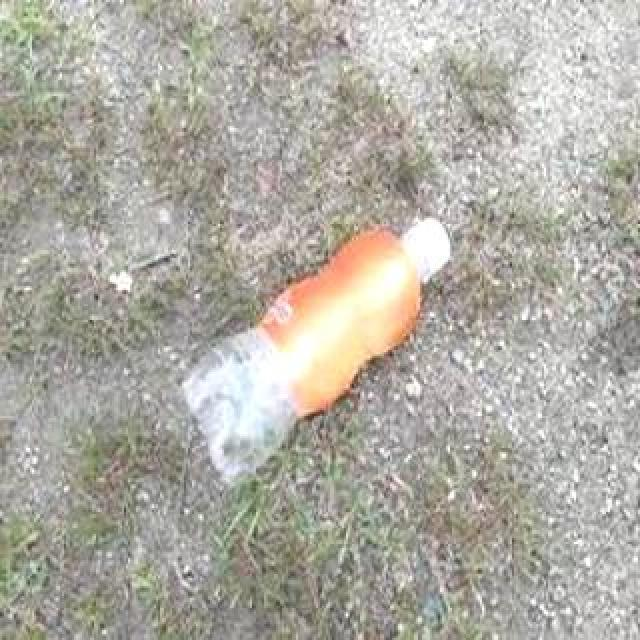Pet_Bottle: (172, 210, 458, 486)
